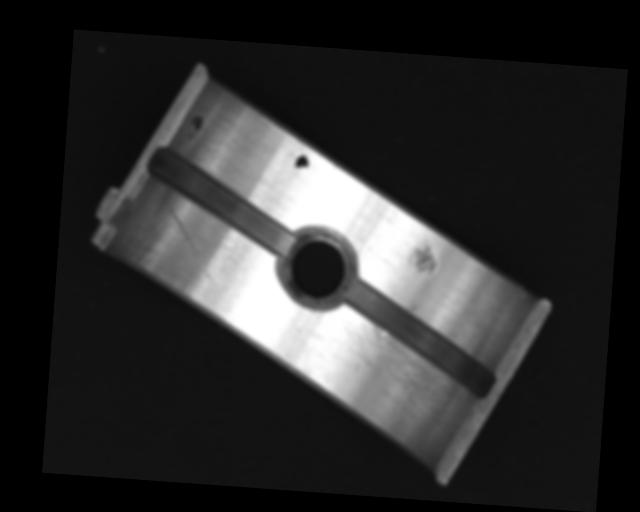blot: (188, 112, 202, 138), (294, 153, 309, 175)
bruise: (411, 236, 439, 275)
gap: (339, 277, 501, 398), (142, 145, 300, 256)
hole: (277, 223, 358, 310)
nick: (162, 202, 219, 284)
scratch: (342, 308, 460, 421)
